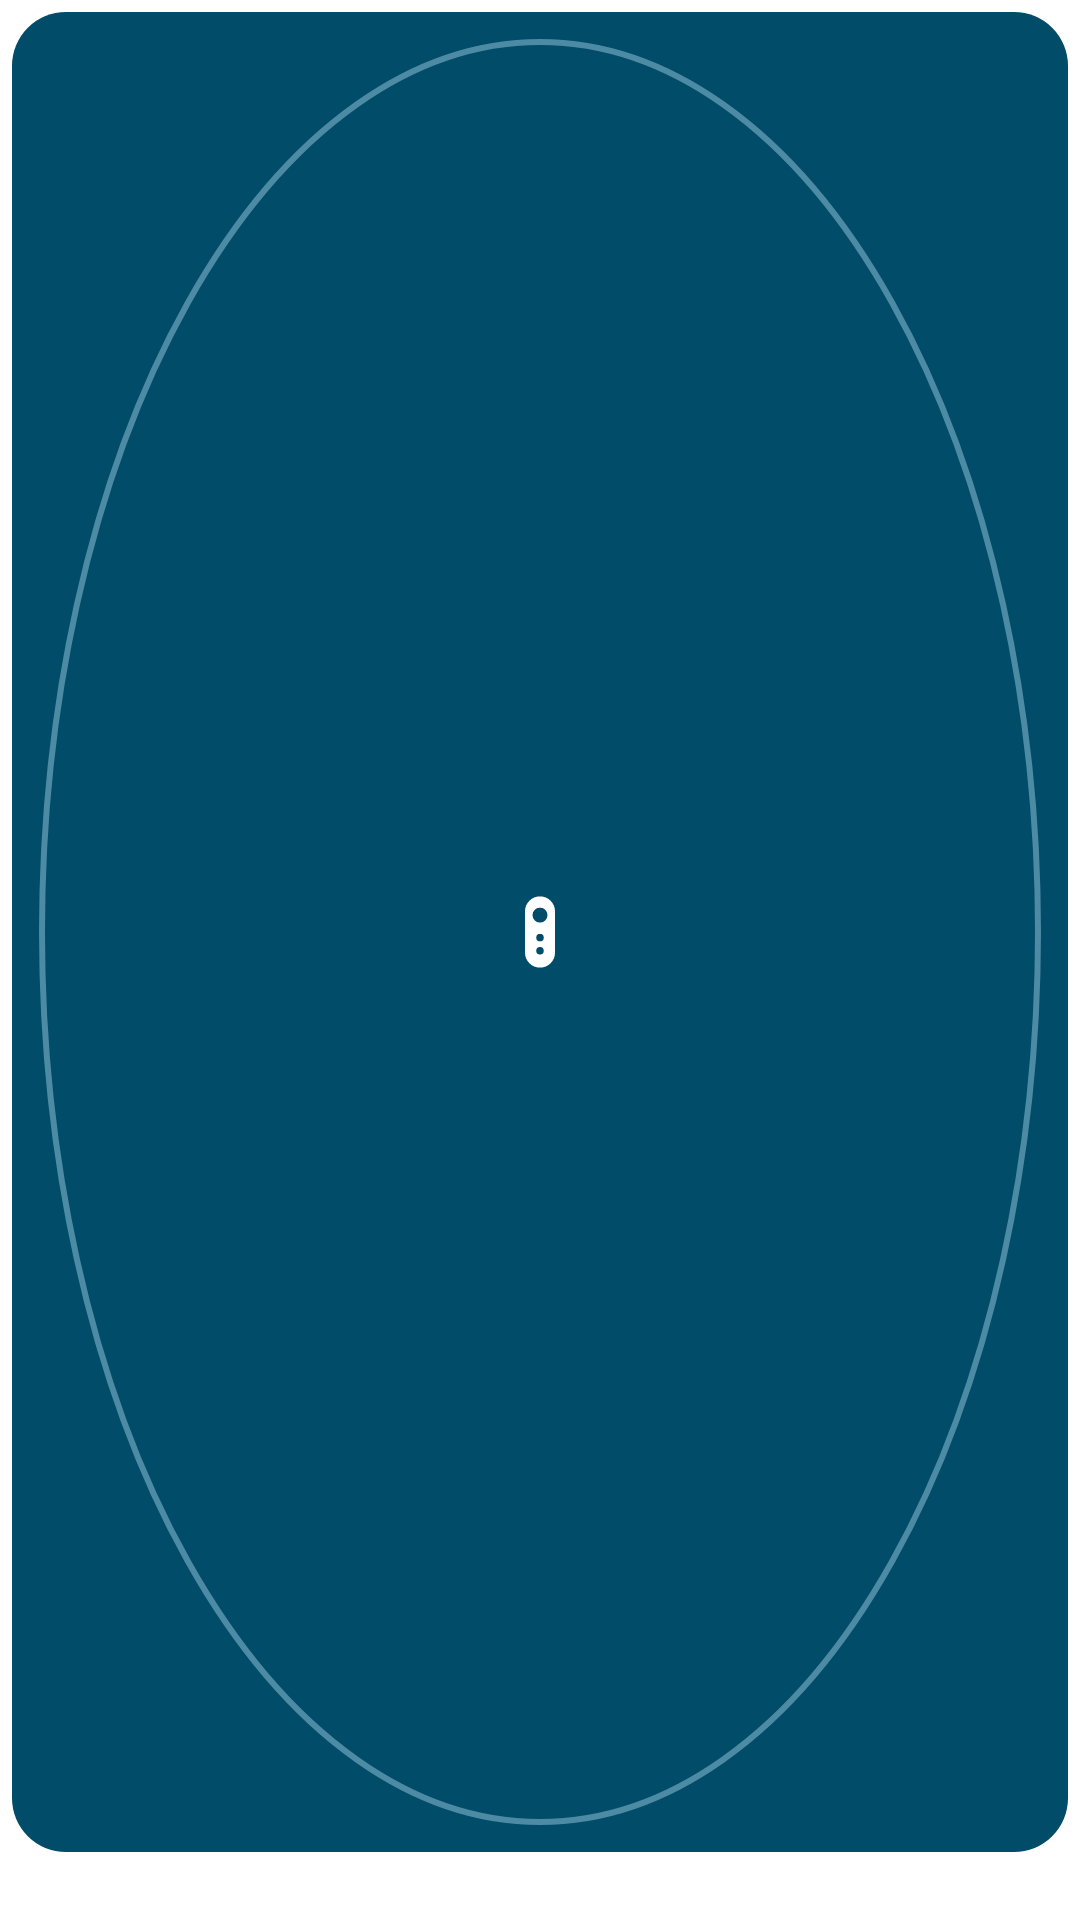

Point at icon controls on the screen. Image size 1080*1920, points as (x,y).
widget remote: (540,932)
